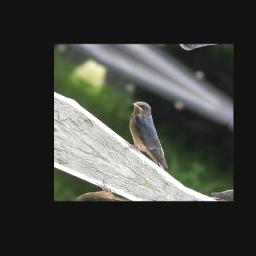Swallow: (107, 97, 194, 174)
